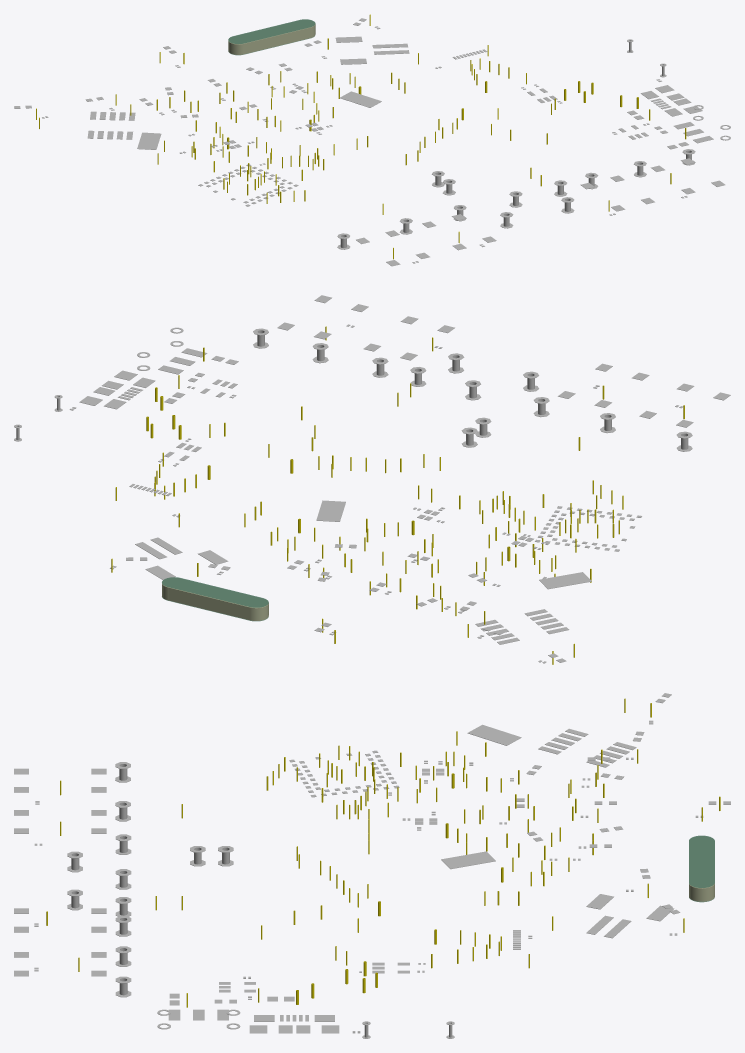
Rendered from dc801-dc25-party-badge.glb.
3 views of the same model, one above another, from view 1: azimuth 30°, elevation 25°; view 2: azimuth 150°, elevation 25°; view 3: azimuth 270°, elevation 25° (orthographic). The views are drawn at different scales.
Parts seen in each view (by area): view 1: =>[0:1:1:2], =>[0:1:1:3], =>[0:1:1:6], =>[0:1:1:4]; view 2: =>[0:1:1:2], =>[0:1:1:3], =>[0:1:1:6], =>[0:1:1:4]; view 3: =>[0:1:1:2], =>[0:1:1:3], =>[0:1:1:6], =>[0:1:1:4].
Part boxes in pixels (x1,y1,x2,y2): =>[0:1:1:2]: [14, 18, 730, 266]; =>[0:1:1:3]: [36, 14, 686, 259]; =>[0:1:1:6]: [228, 20, 315, 54]; =>[0:1:1:4]: [228, 19, 315, 55]; =>[0:1:1:2]: [14, 295, 730, 663]; =>[0:1:1:3]: [111, 326, 684, 664]; =>[0:1:1:6]: [162, 578, 268, 620]; =>[0:1:1:4]: [162, 577, 268, 621]; =>[0:1:1:2]: [14, 693, 730, 1038]; =>[0:1:1:3]: [46, 698, 720, 1007]; =>[0:1:1:6]: [689, 836, 714, 901]; =>[0:1:1:4]: [689, 835, 714, 902].
Bounding box in the file's own units: 0.0806 × 0.00161 × 0.0736.
